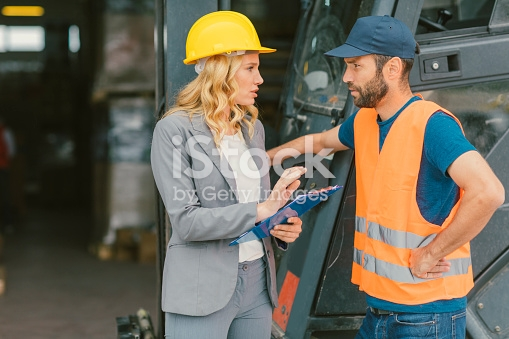Helmet: (181, 9, 280, 65)
